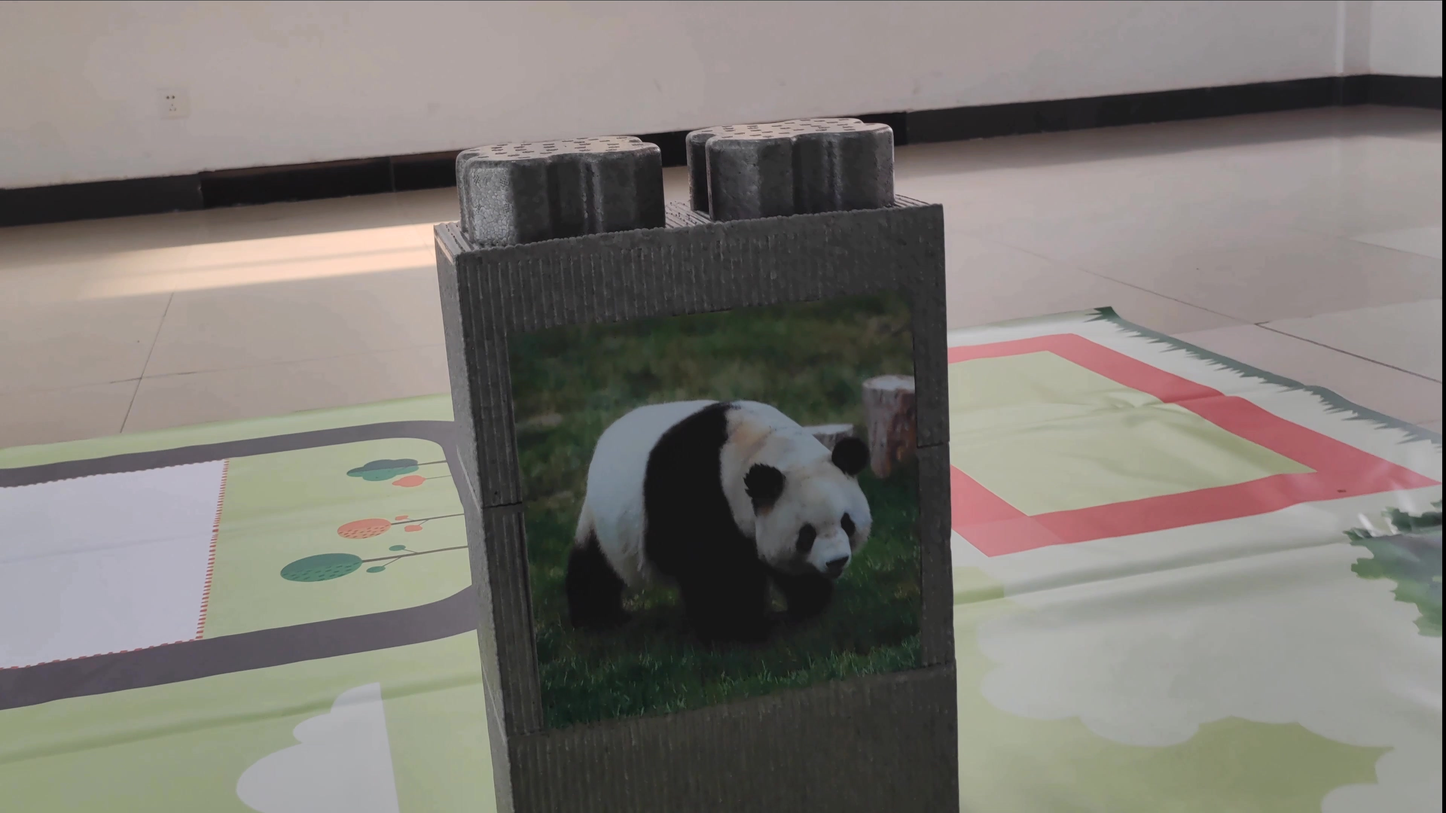panda: (534, 379, 909, 682)
